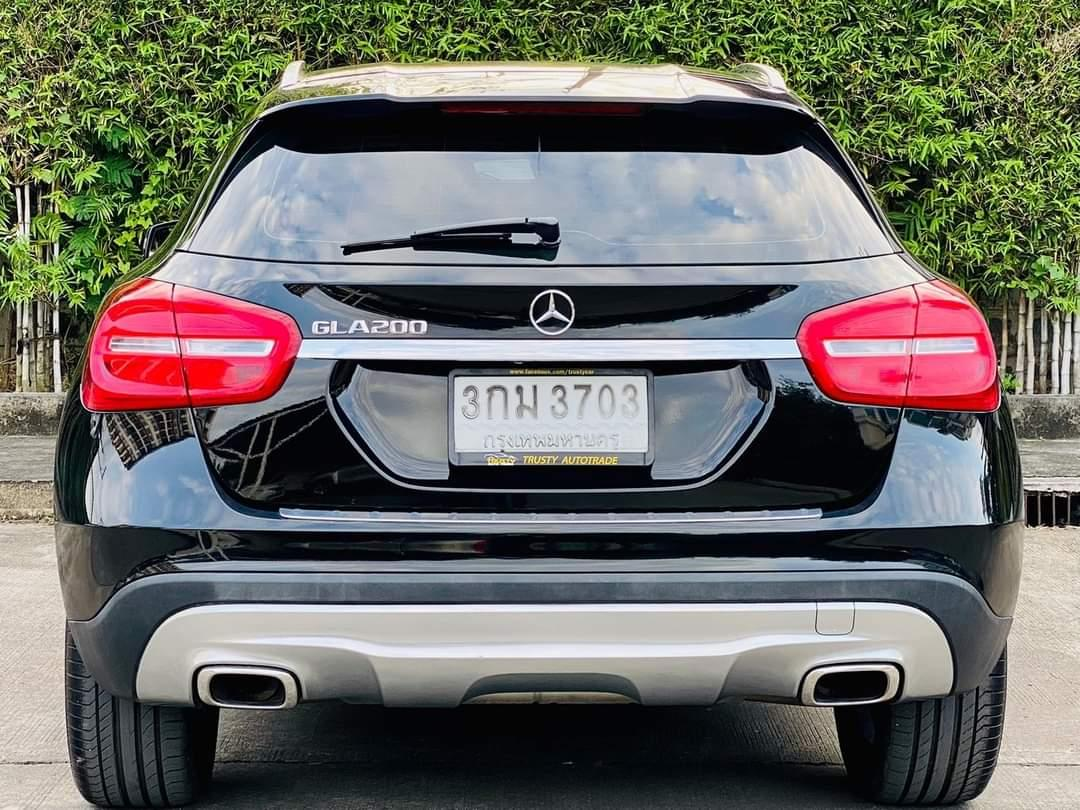license-plate: (447, 366, 654, 471)
